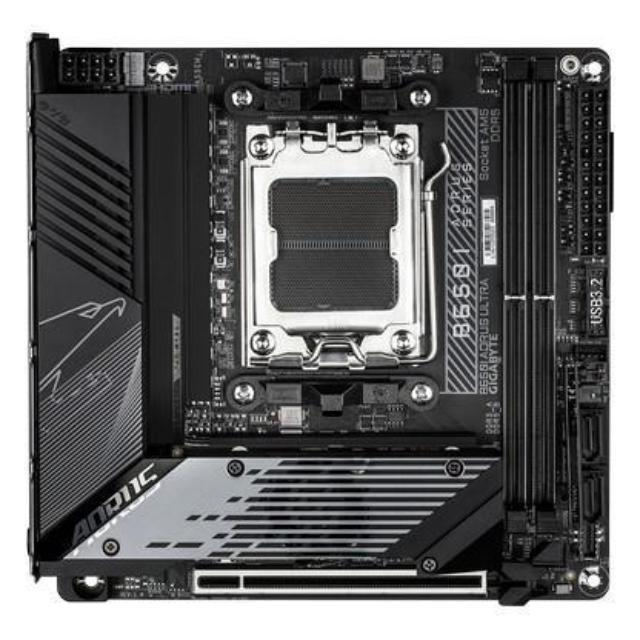Mainboard: (19, 35, 612, 602)
